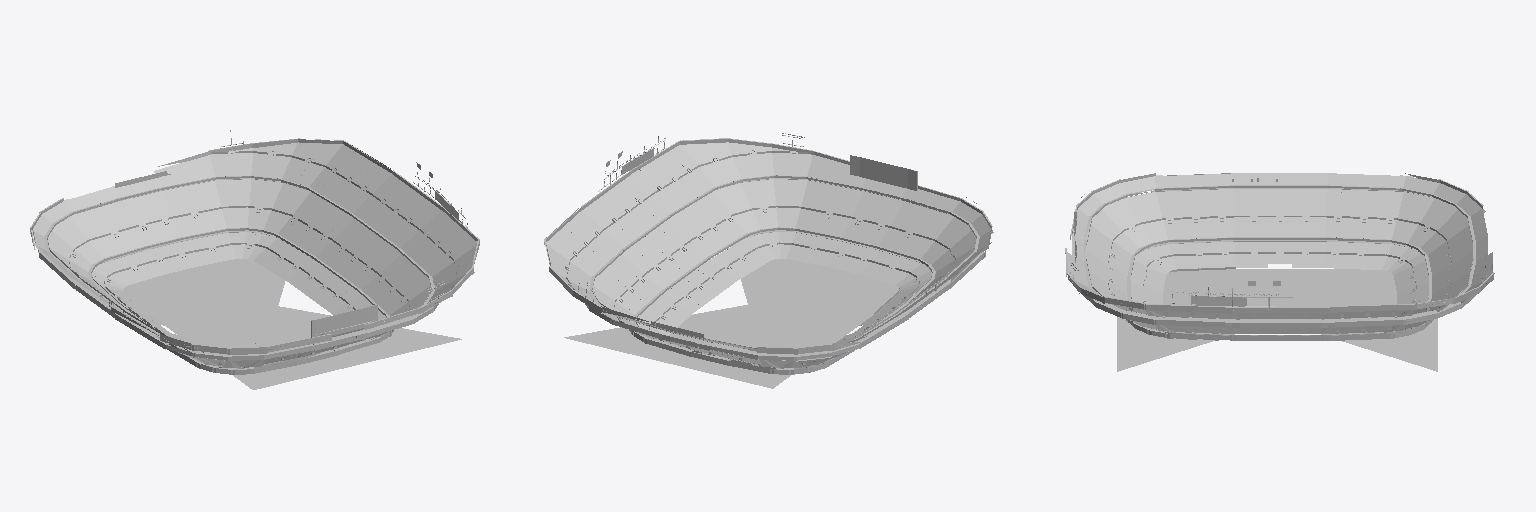
The model's file is gradas.obj.
3 views of the same model, side by side, from view 1: azimuth 30°, elevation 25°; view 2: azimuth 150°, elevation 25°; view 3: azimuth 270°, elevation 25° (orthographic).
Parts seen in each view (by area): view 1: PRUEBA2.001; view 2: PRUEBA2.001; view 3: PRUEBA2.001.
Boxes of the visible parts, box(x1,y1,x2,y2) form: PRUEBA2.001: box(30, 130, 479, 389); PRUEBA2.001: box(544, 133, 993, 388); PRUEBA2.001: box(1065, 173, 1494, 371).
Size of the model in its own units: 125 by 39.81 by 142.